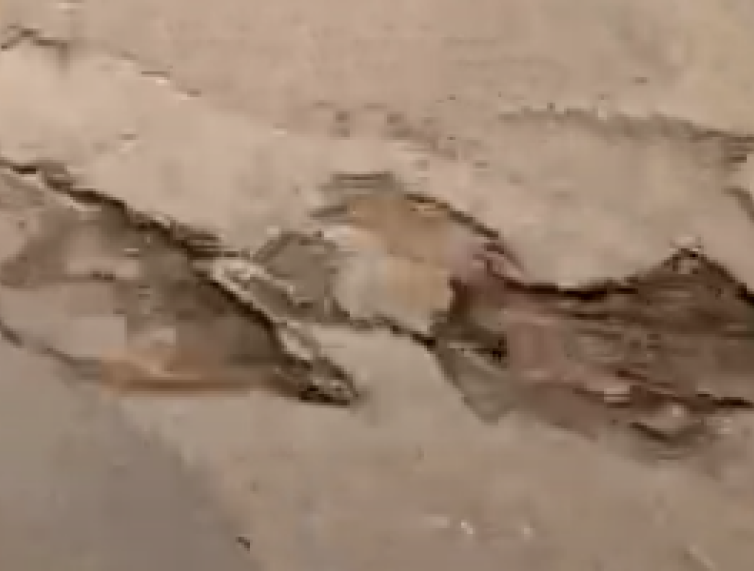Berlubang: (5, 123, 754, 461)
